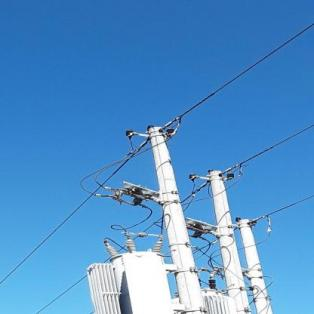Poste: (145, 121, 254, 314), (197, 167, 298, 314)
